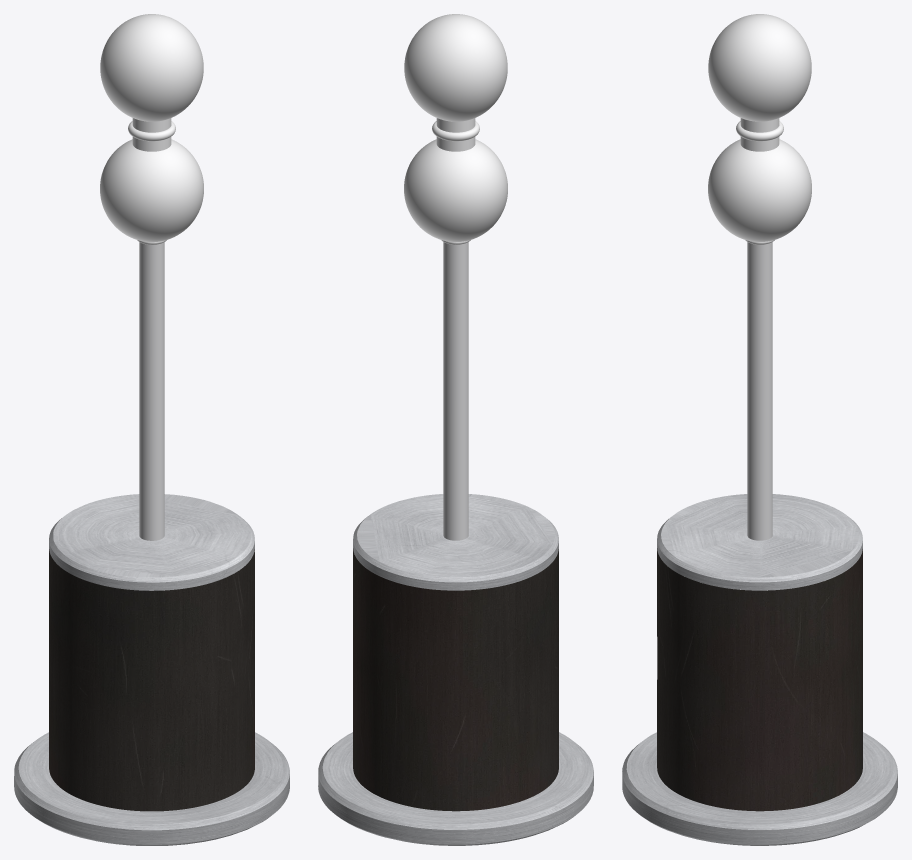
Rendered from knight-black-hd.glb.
3 renders of one model, left to right at view 1: azimuth 30°, elevation 25°; view 2: azimuth 150°, elevation 25°; view 3: azimuth 270°, elevation 25°, orthographic.
Visible parts, largest first — view 1: ferro-orbis_knight_black; view 2: ferro-orbis_knight_black; view 3: ferro-orbis_knight_black.
Part boxes in pixels (box(x1,y1,x2,y2)): ferro-orbis_knight_black: box(14, 14, 289, 845); ferro-orbis_knight_black: box(318, 14, 593, 845); ferro-orbis_knight_black: box(622, 14, 897, 845).
Bounding box in the file's own units: 0.4283 × 1.32 × 0.4282.
5 materials, 3 textured.
